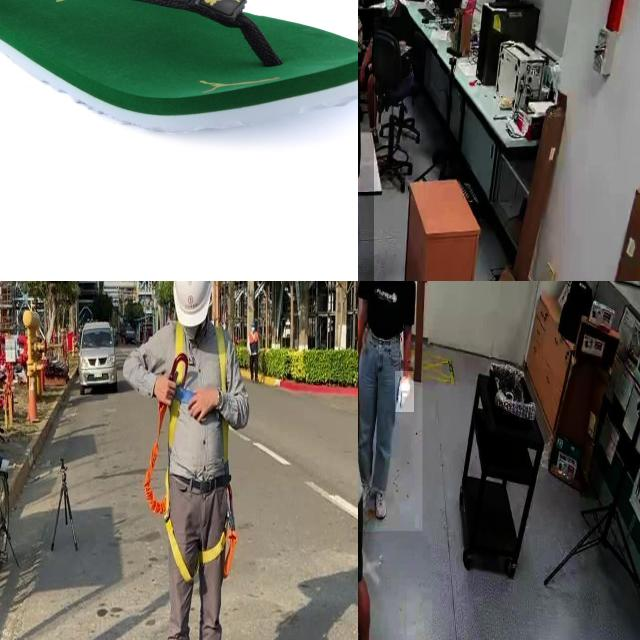Harness: (144, 318, 192, 580), (201, 518, 239, 578)
Sandals: (0, 0, 358, 138)
face_mask: (381, 0, 400, 17)
hand_glove: (395, 371, 415, 413)
hand_noglove: (358, 68, 366, 92)
person: (358, 281, 422, 532), (359, 0, 412, 157)
shoes: (372, 480, 390, 521)
